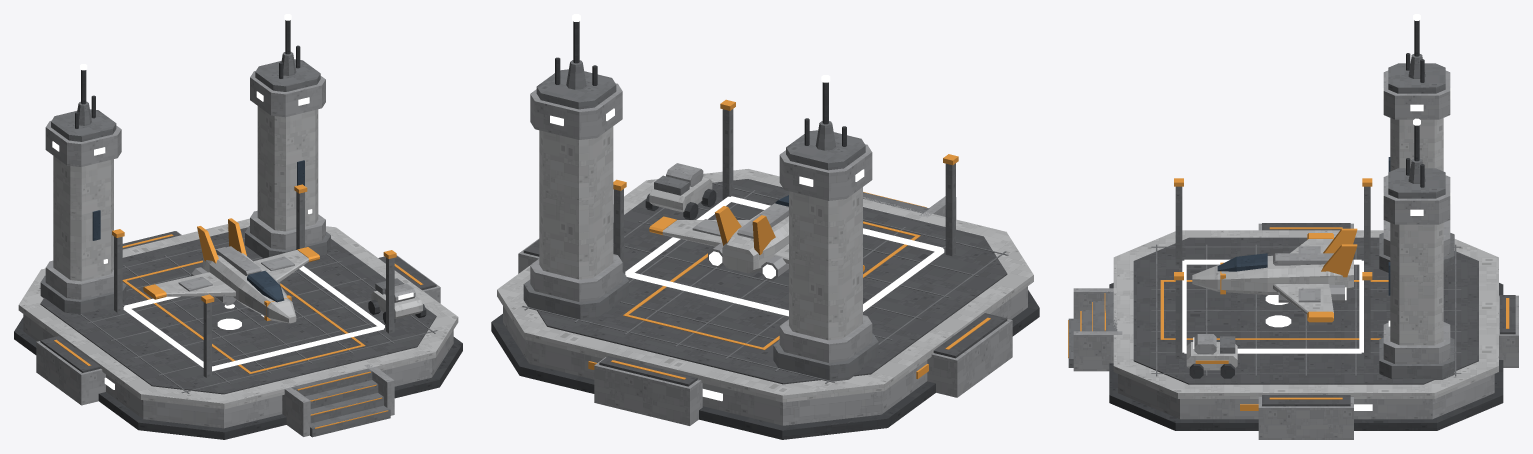
File: upgradeBay_lod0.glb
3 renders of one model, left to right at view 1: azimuth 30°, elevation 25°; view 2: azimuth 150°, elevation 25°; view 3: azimuth 270°, elevation 25°, orthographic. The views are drawn at different scales.
Parts seen in each view (by area): view 1: upgradeBay_base_body, upgradeBay_craft_body, upgradeBay_base_trim, upgradeBay_scan_glow, upgradeBay_craft_trim, upgradeBay_base_glow; view 2: upgradeBay_base_body, upgradeBay_craft_body, upgradeBay_scan_glow, upgradeBay_base_trim, upgradeBay_craft_trim, upgradeBay_base_glow; view 3: upgradeBay_base_body, upgradeBay_craft_body, upgradeBay_base_trim, upgradeBay_scan_glow, upgradeBay_craft_trim, upgradeBay_base_glow.
Boxes of the visible parts, bbox=[...] form: upgradeBay_base_body: bbox=[14, 20, 462, 439]; upgradeBay_craft_body: bbox=[155, 246, 308, 323]; upgradeBay_base_trim: bbox=[53, 184, 423, 428]; upgradeBay_scan_glow: bbox=[123, 266, 384, 371]; upgradeBay_craft_trim: bbox=[143, 218, 319, 320]; upgradeBay_base_glow: bbox=[52, 14, 413, 389]; upgradeBay_base_body: bbox=[491, 21, 1039, 439]; upgradeBay_craft_body: bbox=[662, 195, 788, 280]; upgradeBay_scan_glow: bbox=[625, 196, 944, 316]; upgradeBay_base_trim: bbox=[588, 99, 990, 379]; upgradeBay_craft_trim: bbox=[649, 206, 864, 271]; upgradeBay_base_glow: bbox=[550, 14, 864, 401]; upgradeBay_base_body: bbox=[1068, 20, 1518, 439]; upgradeBay_craft_body: bbox=[1192, 239, 1353, 314]; upgradeBay_base_trim: bbox=[1068, 178, 1509, 410]; upgradeBay_scan_glow: bbox=[1182, 259, 1363, 353]; upgradeBay_craft_trim: bbox=[1220, 228, 1357, 322]; upgradeBay_base_glow: bbox=[1193, 14, 1451, 410].
Size of the model in its own units: 3.94 by 2.79 by 4.07.
3 materials, 1 textured.
